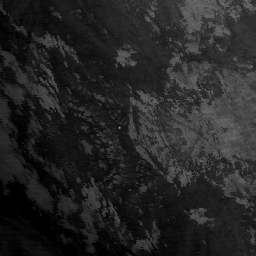Target: (116, 125, 121, 130)
